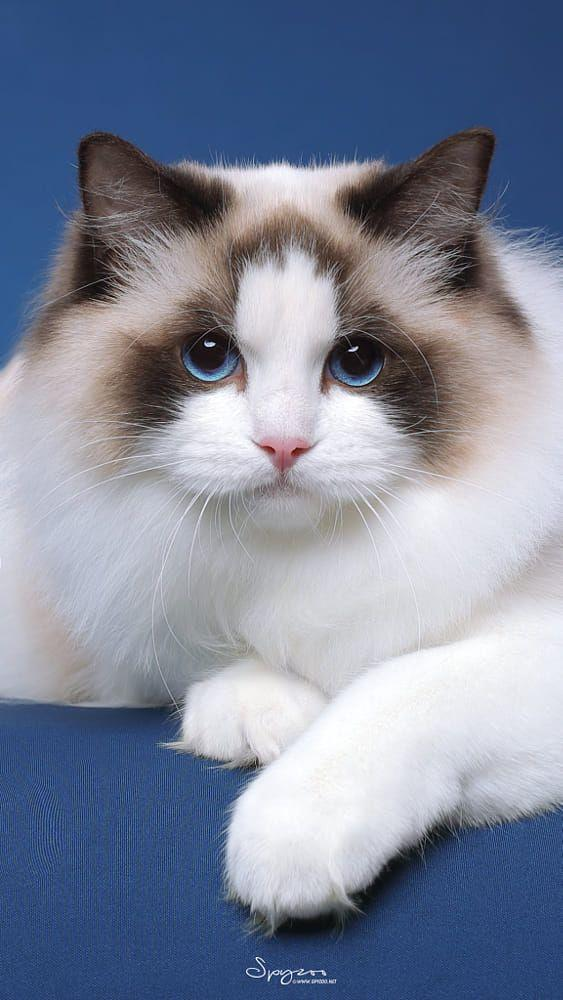ragdoll: (67, 112, 502, 554)
